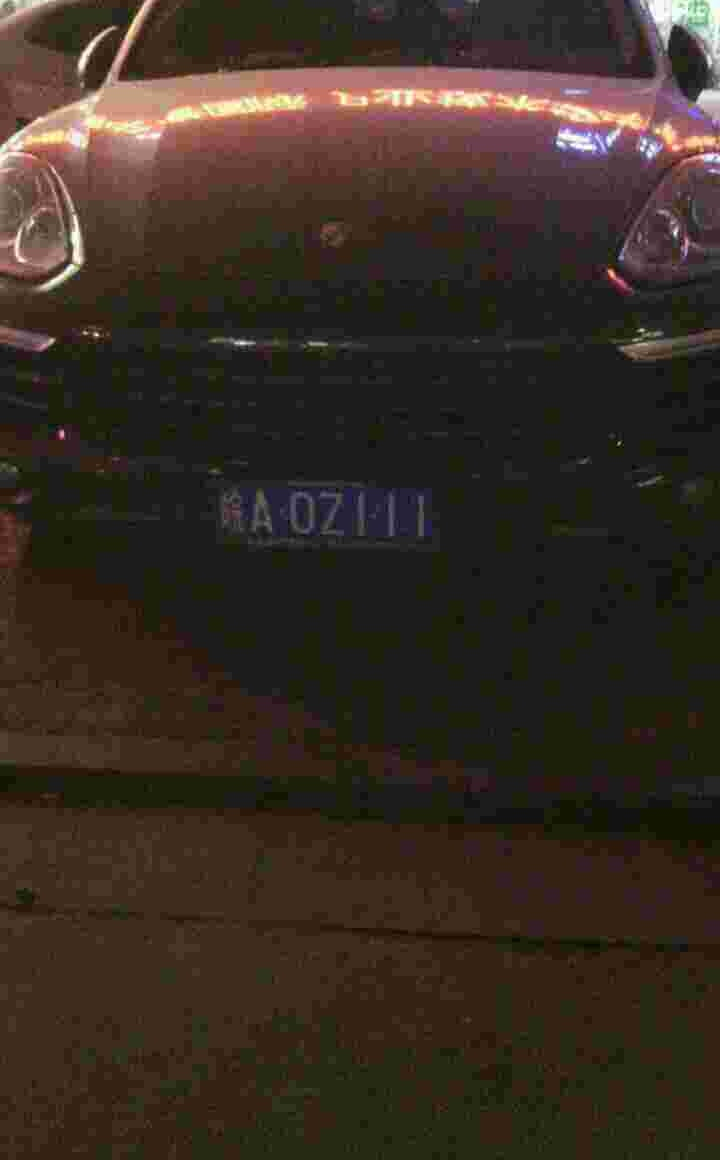license_plate: (213, 480, 437, 548)
